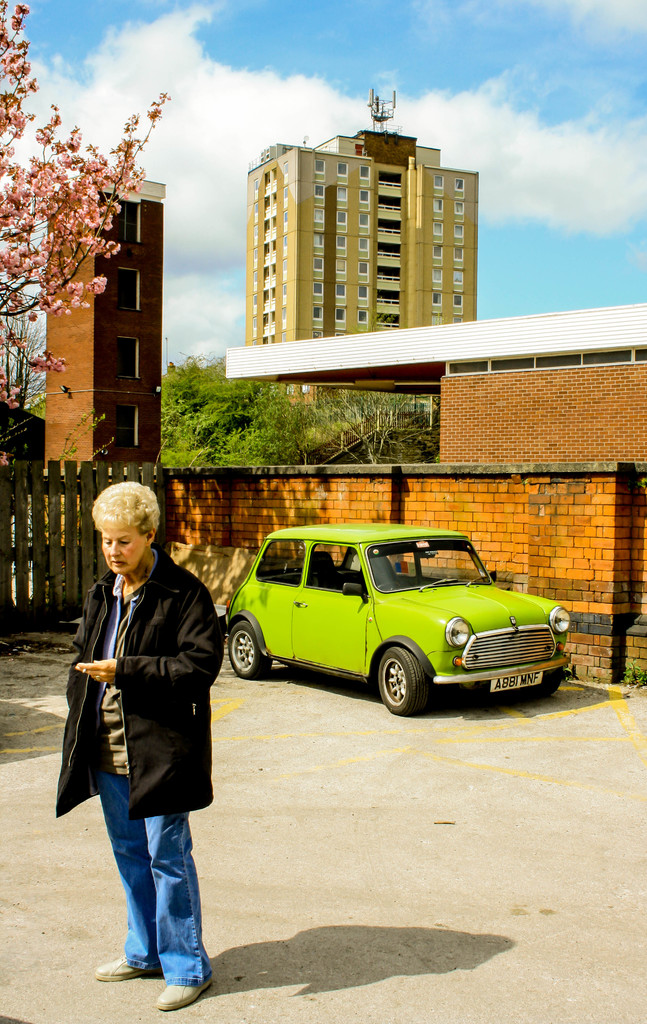Car: (222, 538, 570, 727)
